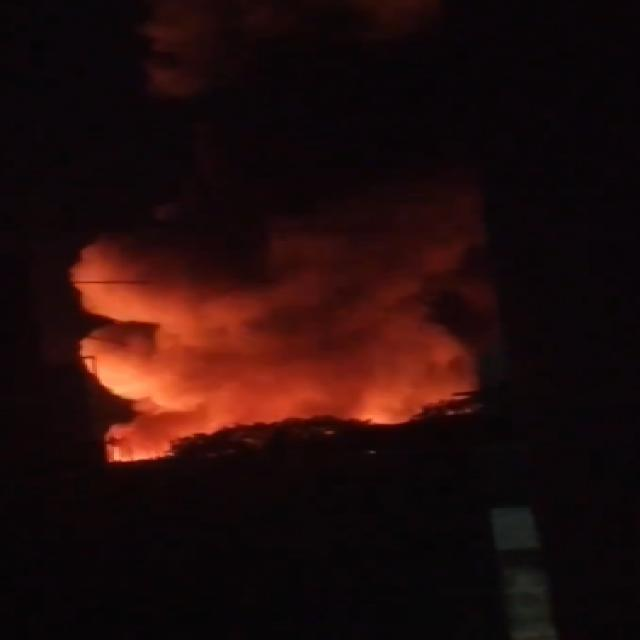Smoke: (79, 190, 494, 464)
